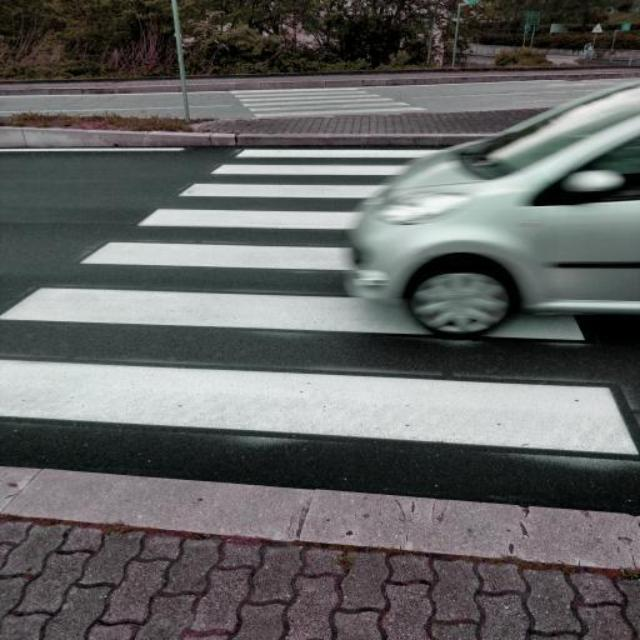sidewalk: (1, 146, 640, 461)
